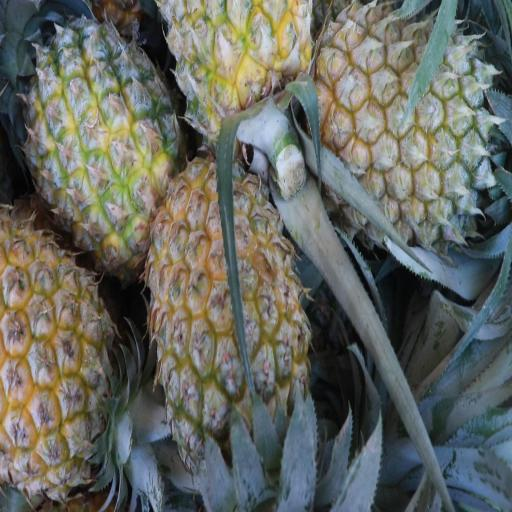------------------------------: (148, 148, 297, 446)
Pineapple - v8 v1: (22, 26, 169, 260), (0, 224, 127, 491), (163, 0, 312, 156)
